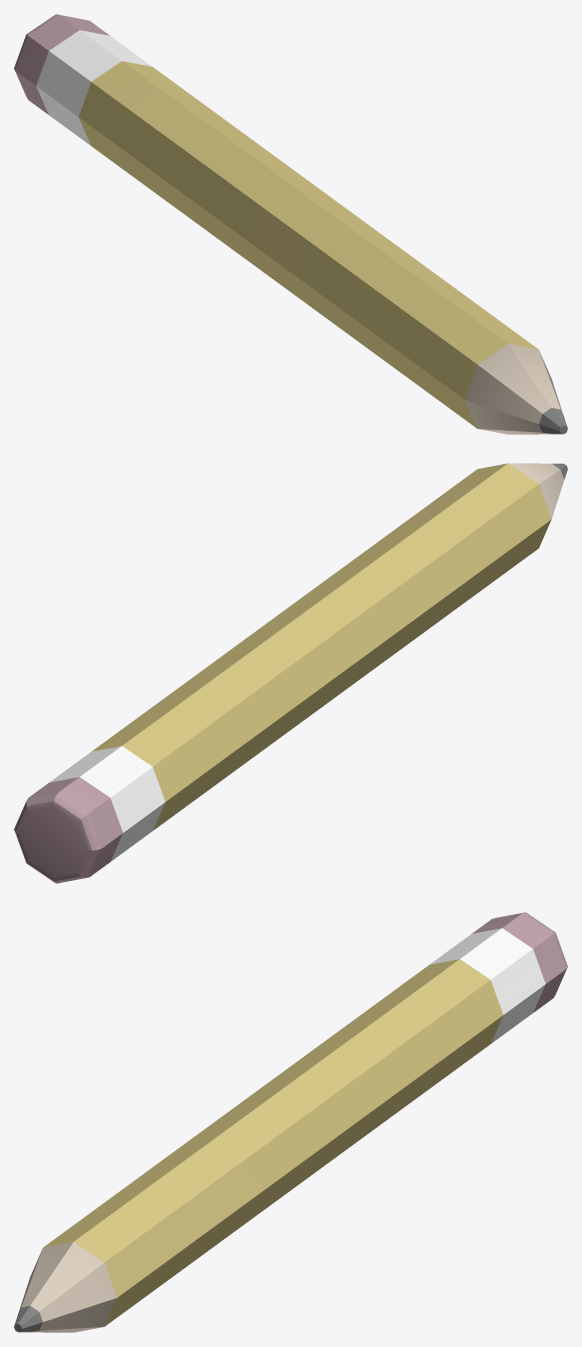
Rendered from pencil.fbx.
3 renders of one model, top to bottom at view 1: azimuth 30°, elevation 25°; view 2: azimuth 150°, elevation 25°; view 3: azimuth 330°, elevation 25°, orthographic.
Parts seen in each view (by area): view 1: pencil:pCylinder1; view 2: pencil:pCylinder1; view 3: pencil:pCylinder1.
Boxes of the visible parts, box(x1,y1,x2,y2) form: pencil:pCylinder1: box(14, 14, 567, 434); pencil:pCylinder1: box(14, 463, 567, 883); pencil:pCylinder1: box(14, 912, 567, 1332).
Size of the model in its own units: 0.0575 by 0.0575 by 0.585.
Materials: 5 (1 with a texture image).
